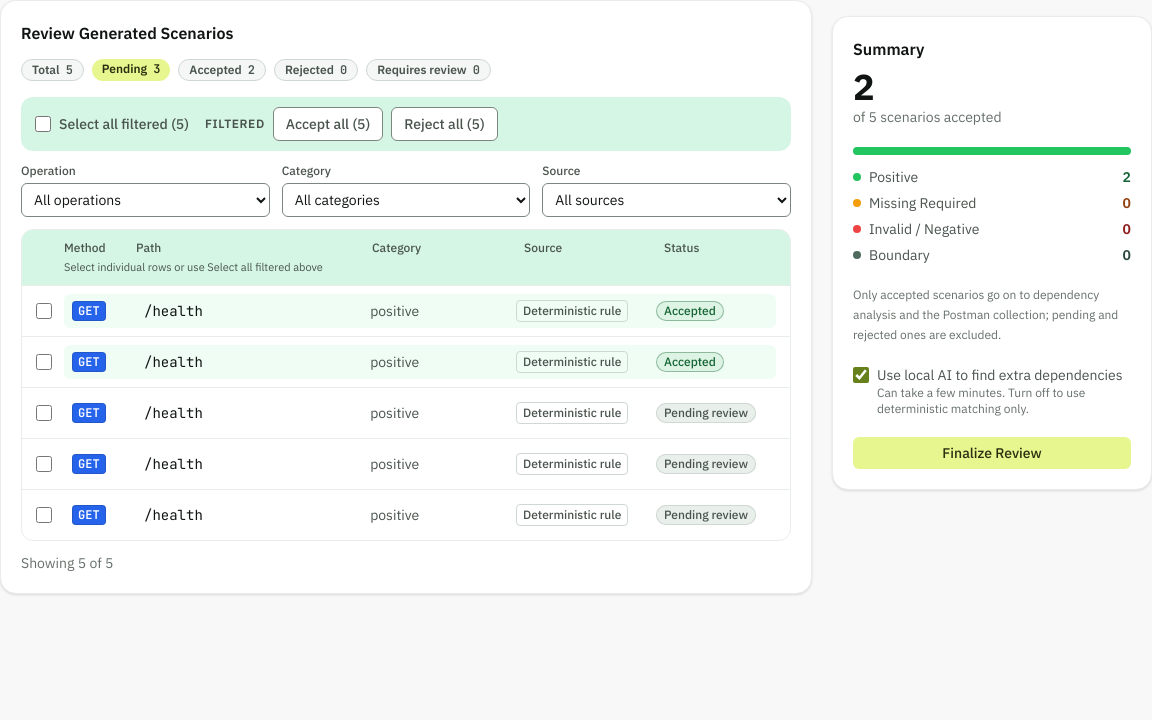
Test case: ScenarioReviewStage finalize confirmation › counts the accepted scenarios being finalized on the confirm button, not the pending ones excluded
Click the button "Finalize Review".
click(992, 453)  # box top-left (853, 437), bottom-right (1131, 469)
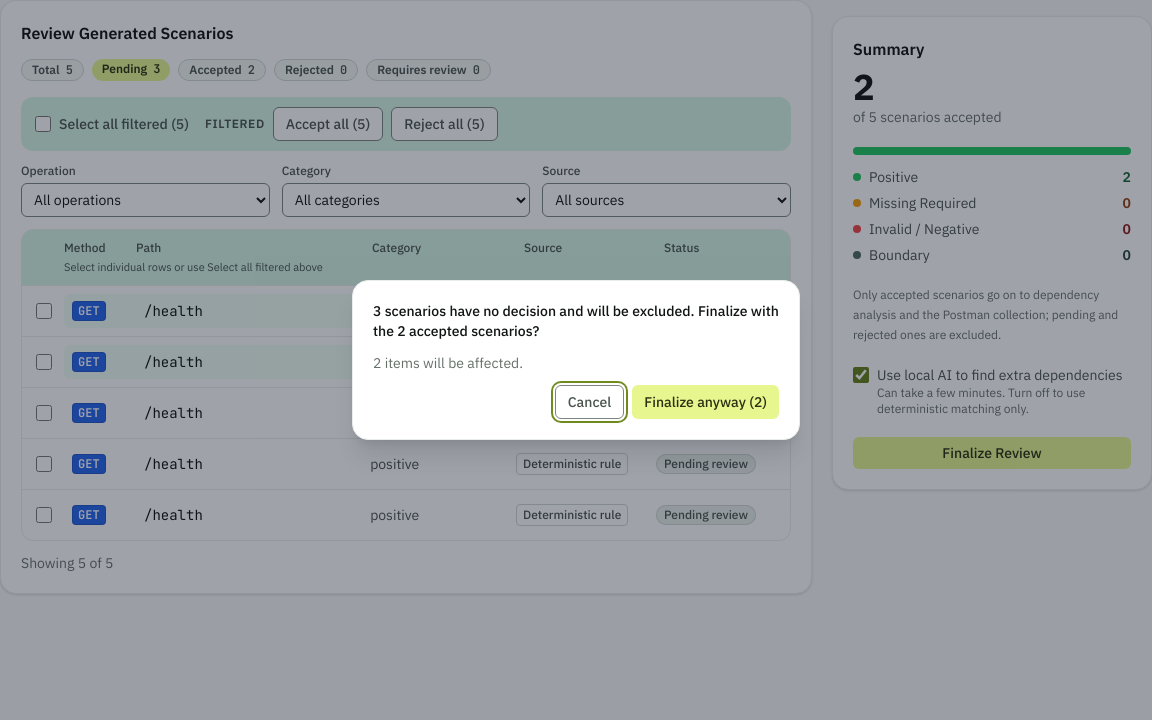
Expected: the text "Finalize with the 2 accepted scenarios?" is shown, top-left (373, 302), bottom-right (779, 340)
Expected: the button "Finalize anyway (2)" is shown, top-left (632, 385), bottom-right (779, 419)
